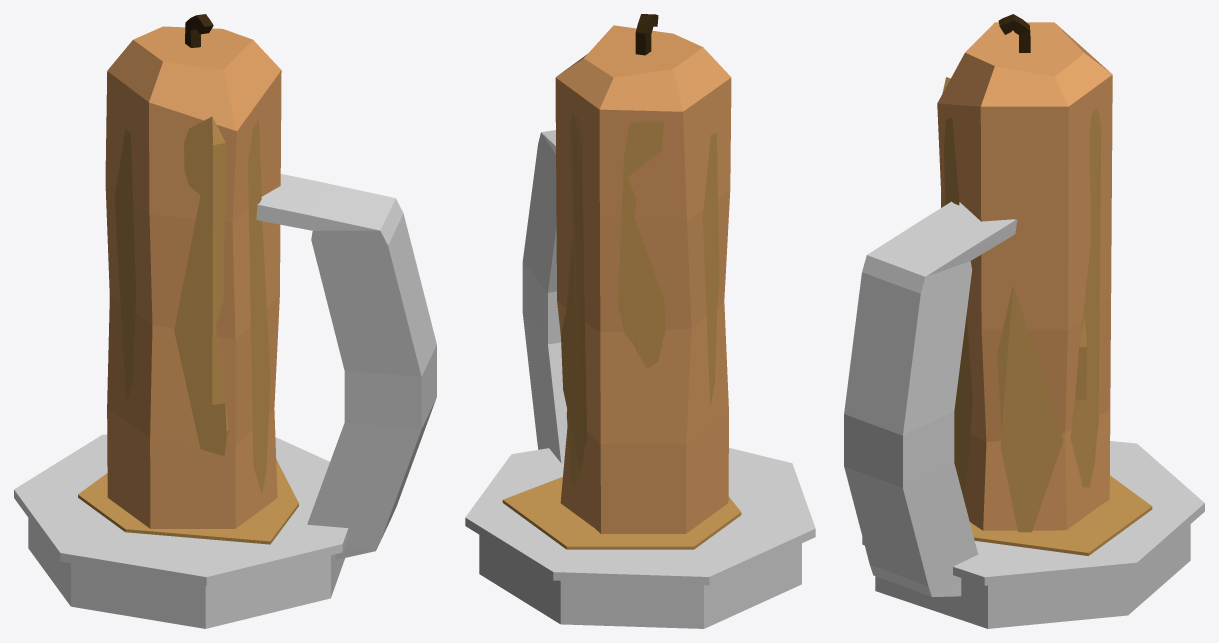
File: CandleReExported.fbx
The picture shows the model from 3 angles, left to right: view 1: azimuth 30°, elevation 25°; view 2: azimuth 150°, elevation 25°; view 3: azimuth 270°, elevation 25°; orthographic projection.
Visible parts, largest first — view 1: Candle, Handle, Dish, Melted wax, Cylinder, Wick; view 2: Candle, Dish, Melted wax, Handle, Cylinder, Wick; view 3: Candle, Handle, Dish, Melted wax, Cylinder, Wick.
Boxes of the visible parts, <box> form: Candle: <box>105,26,281,528</box>; Handle: <box>256,174,436,559</box>; Dish: <box>14,434,348,628</box>; Melted wax: <box>114,116,270,494</box>; Cylinder: <box>78,459,298,544</box>; Wick: <box>185,14,213,47</box>; Candle: <box>555,25,731,533</box>; Dish: <box>465,448,815,628</box>; Melted wax: <box>561,113,719,487</box>; Handle: <box>522,130,567,463</box>; Cylinder: <box>502,477,741,549</box>; Wick: <box>635,14,658,55</box>; Candle: <box>937,22,1112,530</box>; Handle: <box>844,201,1017,596</box>; Dish: <box>862,441,1204,628</box>; Melted wax: <box>942,77,1101,532</box>; Cylinder: <box>970,475,1152,555</box>; Wick: <box>998,14,1030,52</box>.
Size of the model in its own units: 232 by 363 by 218.
